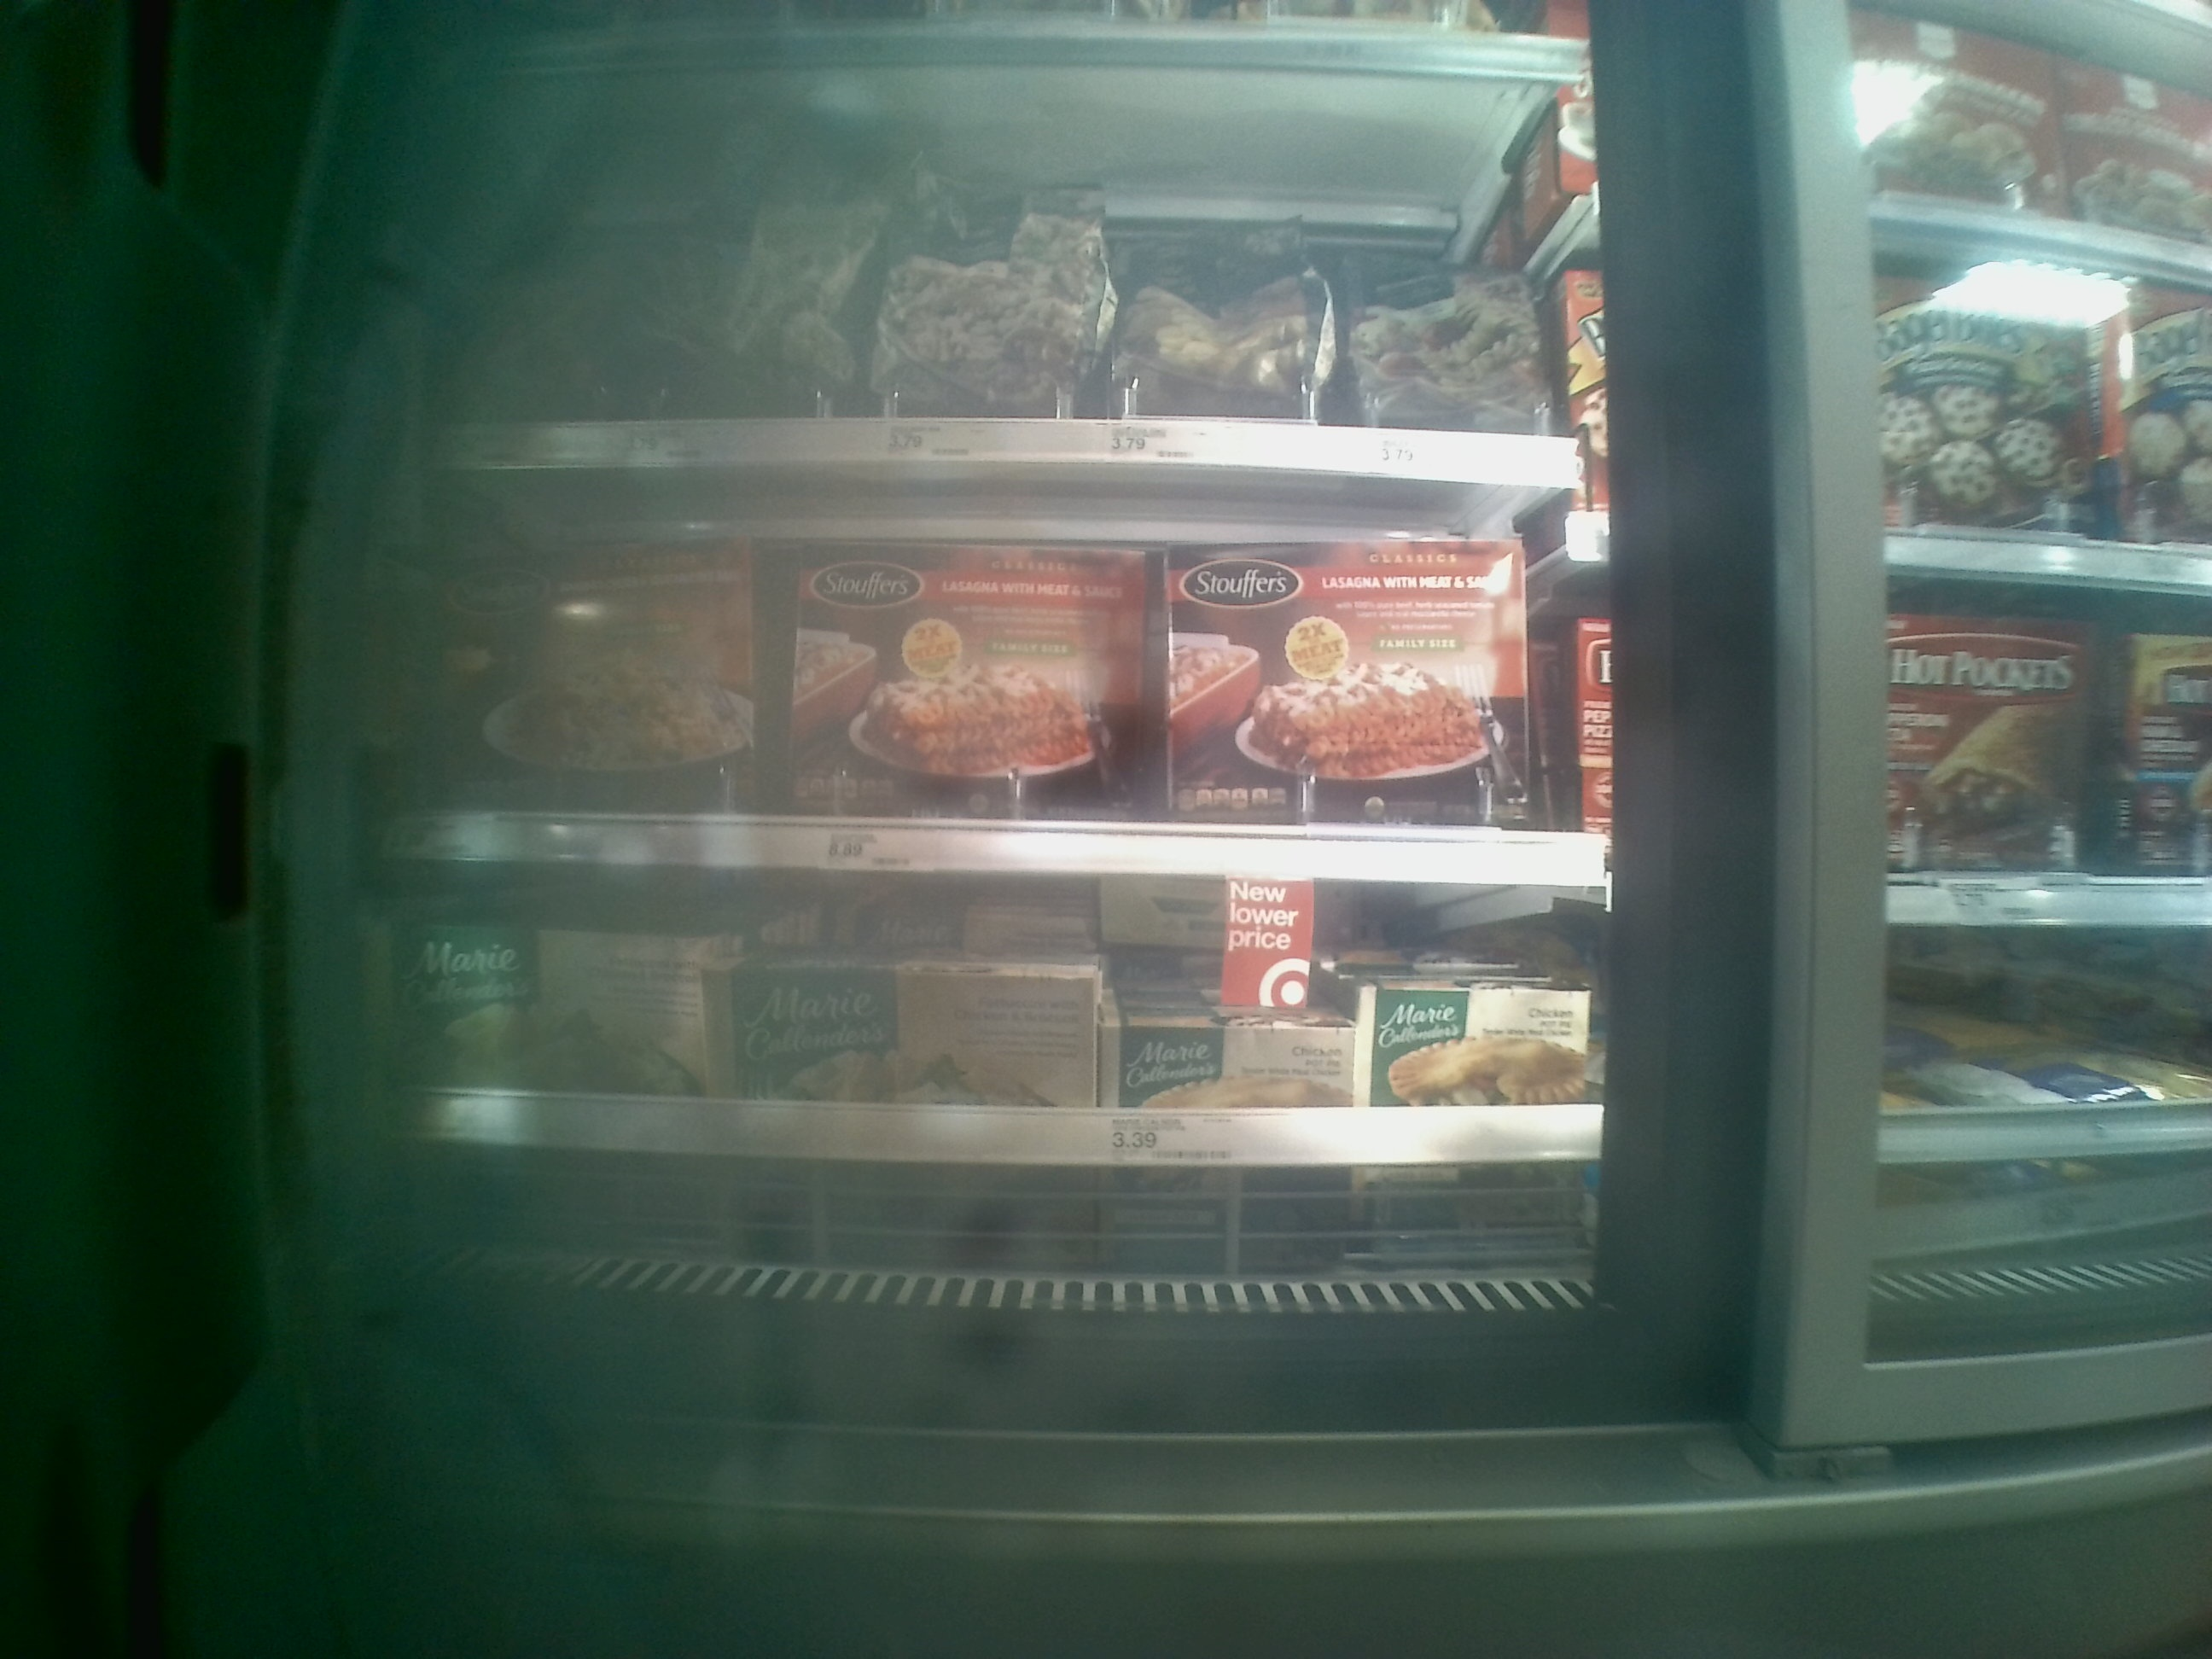frozen-food-shelf: (366, 460, 1606, 878), (404, 884, 1609, 1175)
